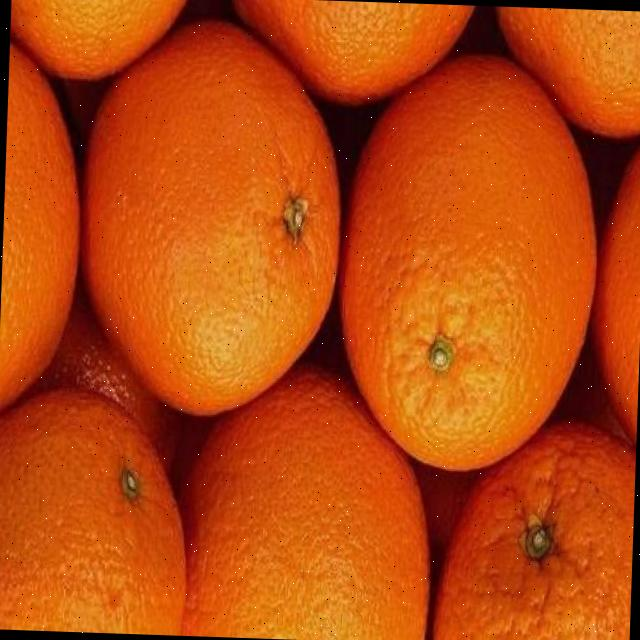Jeruk: (332, 49, 604, 478), (73, 14, 347, 422), (176, 360, 437, 640), (0, 386, 191, 635), (430, 415, 635, 640), (0, 37, 87, 428), (225, 0, 478, 111), (33, 299, 185, 476), (489, 7, 640, 140), (585, 120, 640, 473), (8, 0, 191, 86)
